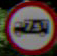Heavy Vehicles: (8, 4, 52, 46)
